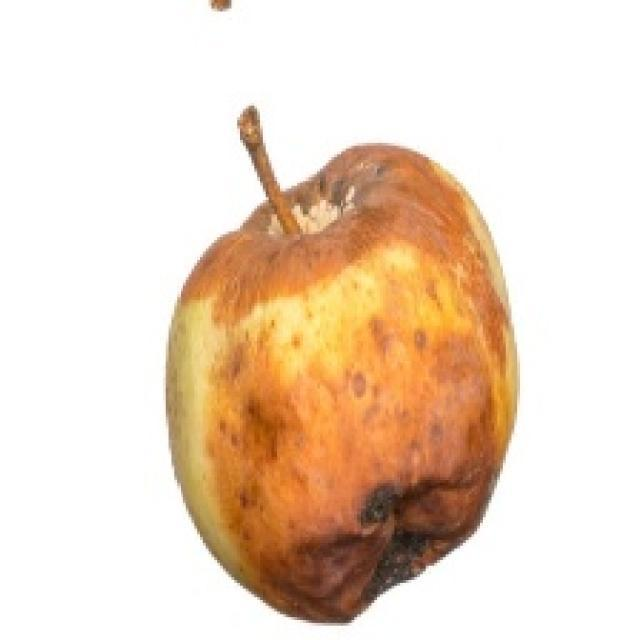apple: (166, 108, 515, 621)
